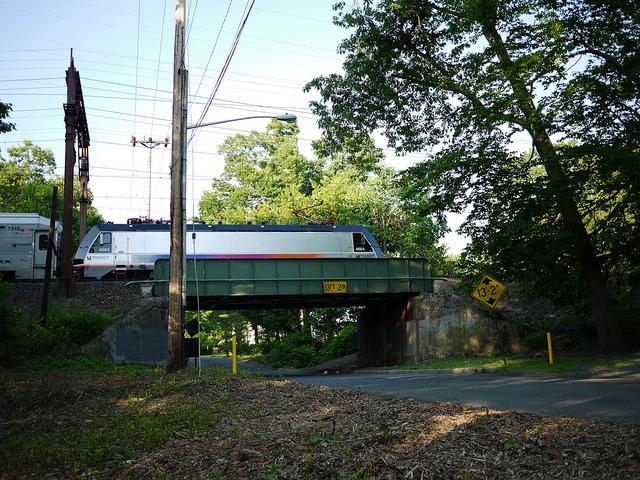Train: (72, 218, 387, 280), (2, 212, 62, 283)
